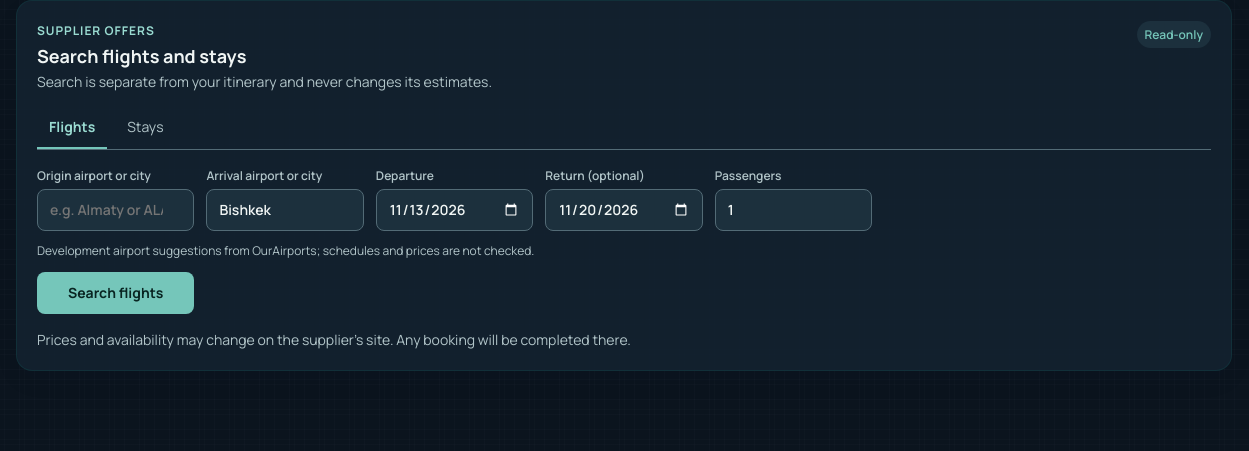
Test case: submits flight search inputs and displays disabled provider response without inventing prices
The width and height of the screenshot is (1249, 451).
expect the text "Development airport suggestions from OurAirports" is shown: met, box 37,242 -> 534,259
Type "ALA — Almaty" into the field labelled "Origin airport or city". click: (116, 210)
box: 37,189 -> 194,231
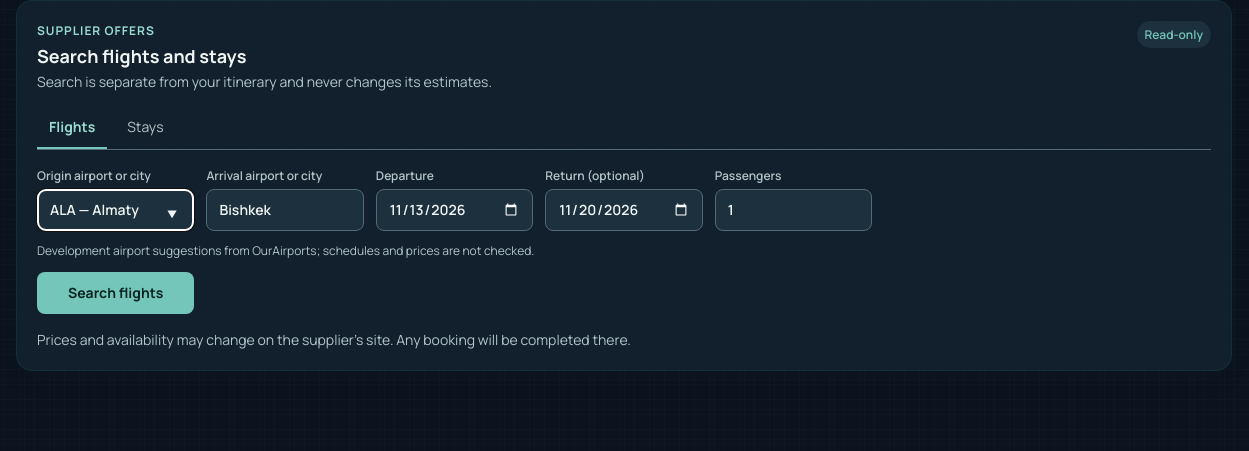
Click the button "Search flights". click: (116, 293)
box: 37,272 -> 194,314
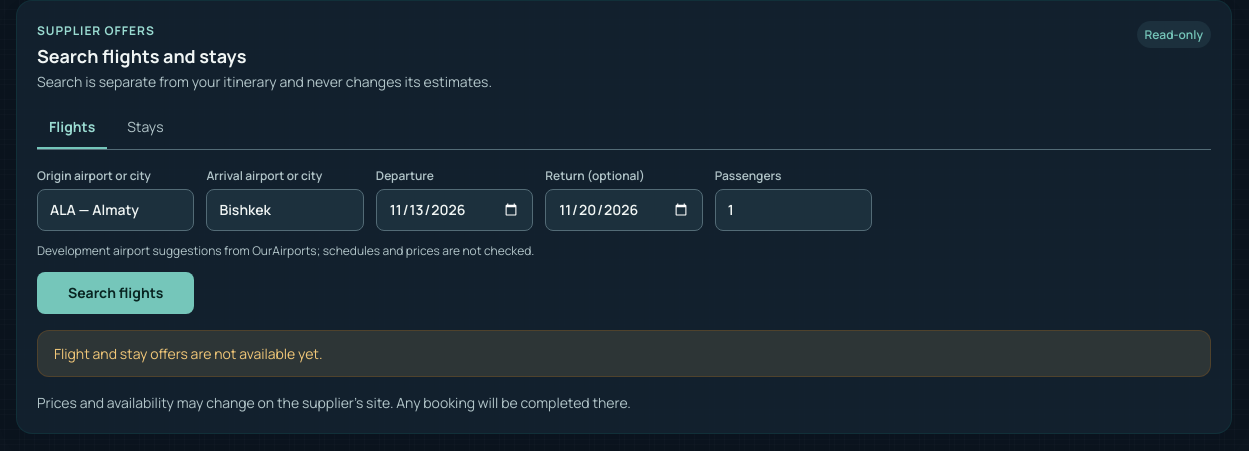
expect the message reads "Flight and stay offers are not available yet.": met, box 54,344 -> 322,363
